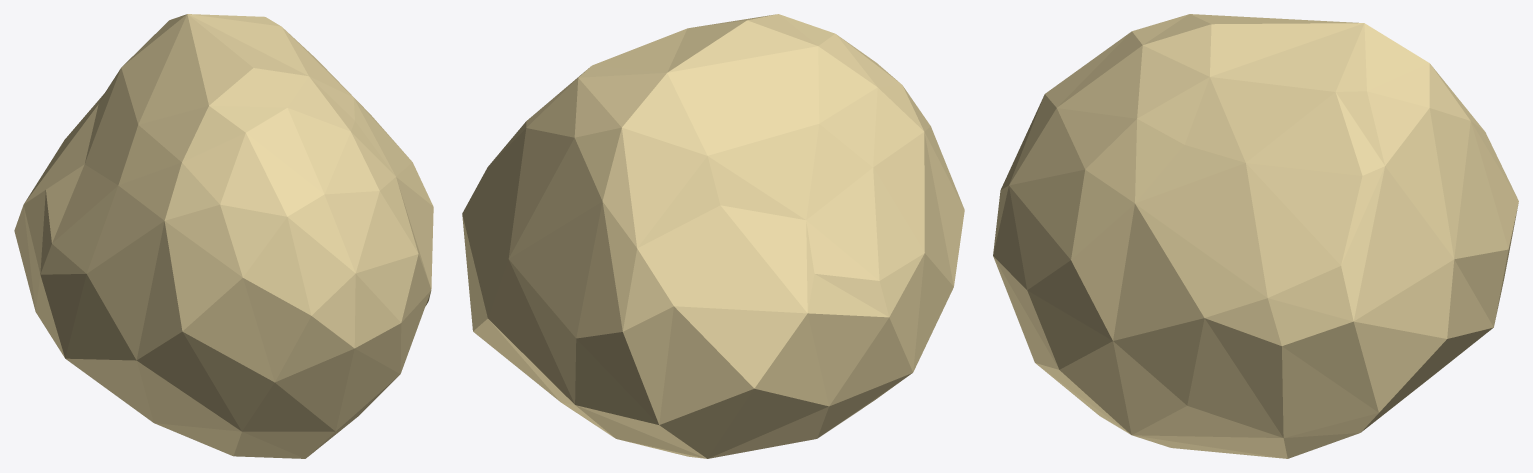
The model's file is Rock (96).fbx.
3 renders of one model, left to right at view 1: azimuth 30°, elevation 25°; view 2: azimuth 150°, elevation 25°; view 3: azimuth 270°, elevation 25°, orthographic. The views are drawn at different scales.
Visible parts, largest first — view 1: Asteroid95; view 2: Asteroid95; view 3: Asteroid95.
Boxes of the visible parts, x1,y1,x2,y2 form: Asteroid95: [14, 14, 433, 458]; Asteroid95: [462, 14, 964, 458]; Asteroid95: [993, 14, 1518, 458].
Size of the model in its own units: 77.41 by 75.87 by 86.6.
